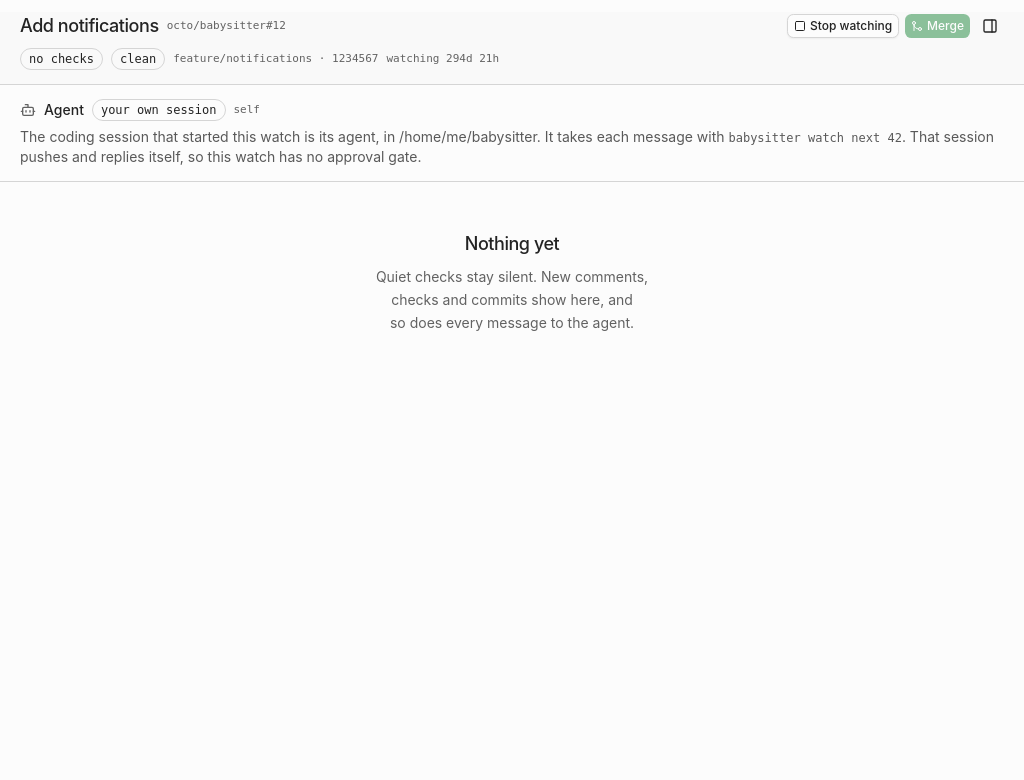
it: a self watch has no gate
The width and height of the screenshot is (1024, 780).
Click the button named "Watch settings": (990, 26) [976,12,1004,40]
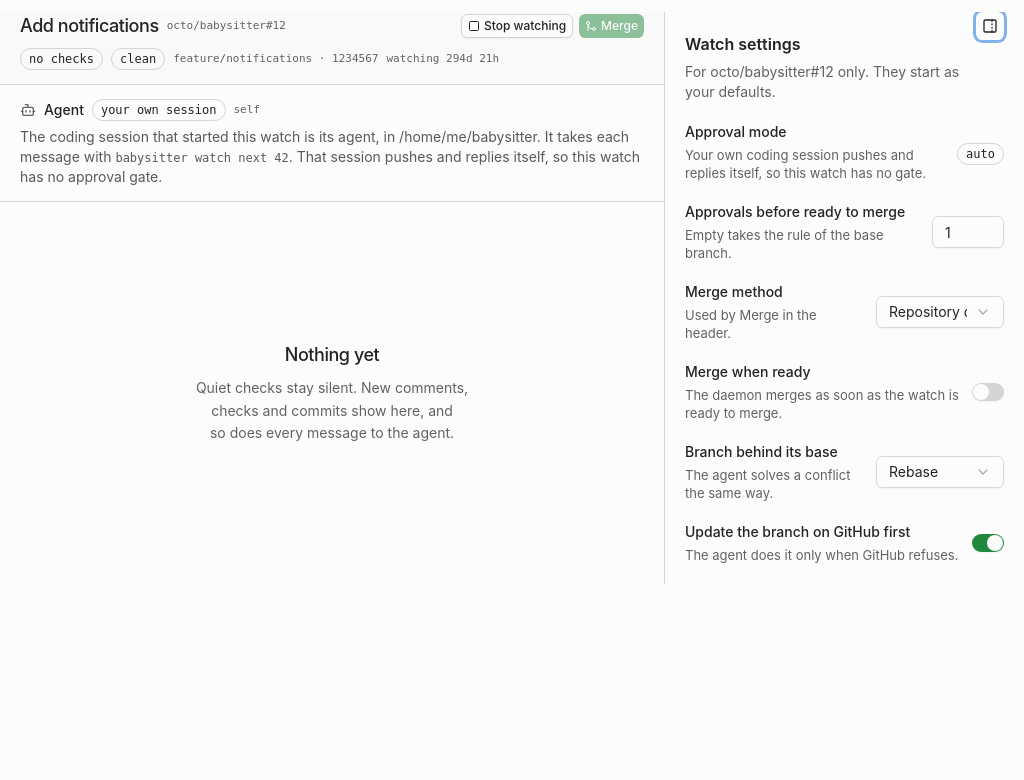
Check: the text "That session pushes and replies itself, so this watch has no approval gate." is shown, box [20,148,640,185]
Check: the element titled "A watch your own coding session drives has no gate" reads "auto", box [966,146,995,160]
